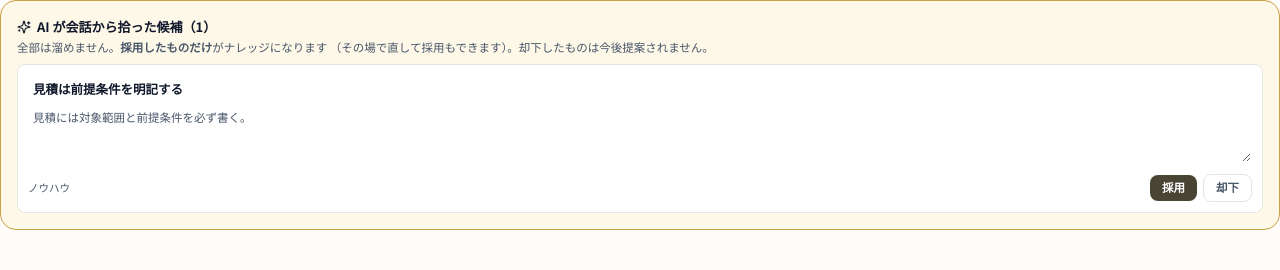
KnowledgeCandidates (GAP-167) › そのまま採用すると approve API を叩く
The image size is (1280, 270).
Click the button "採用": (1174, 188) [1150,175,1197,201]
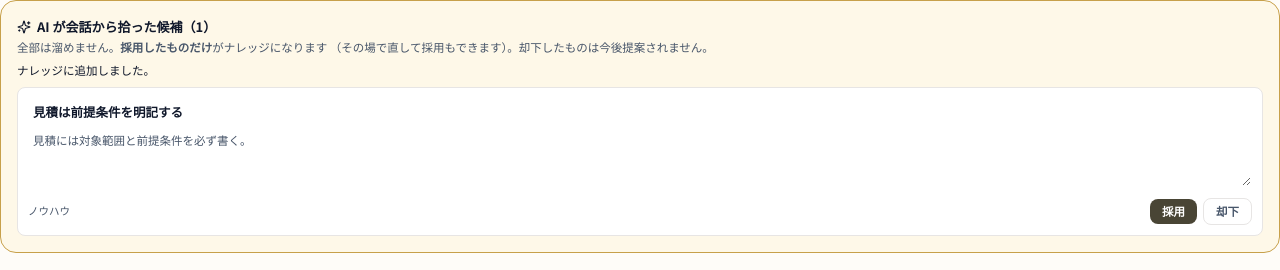
Expected: the message shows "ナレッジに追加しました", [17,62,155,78]
